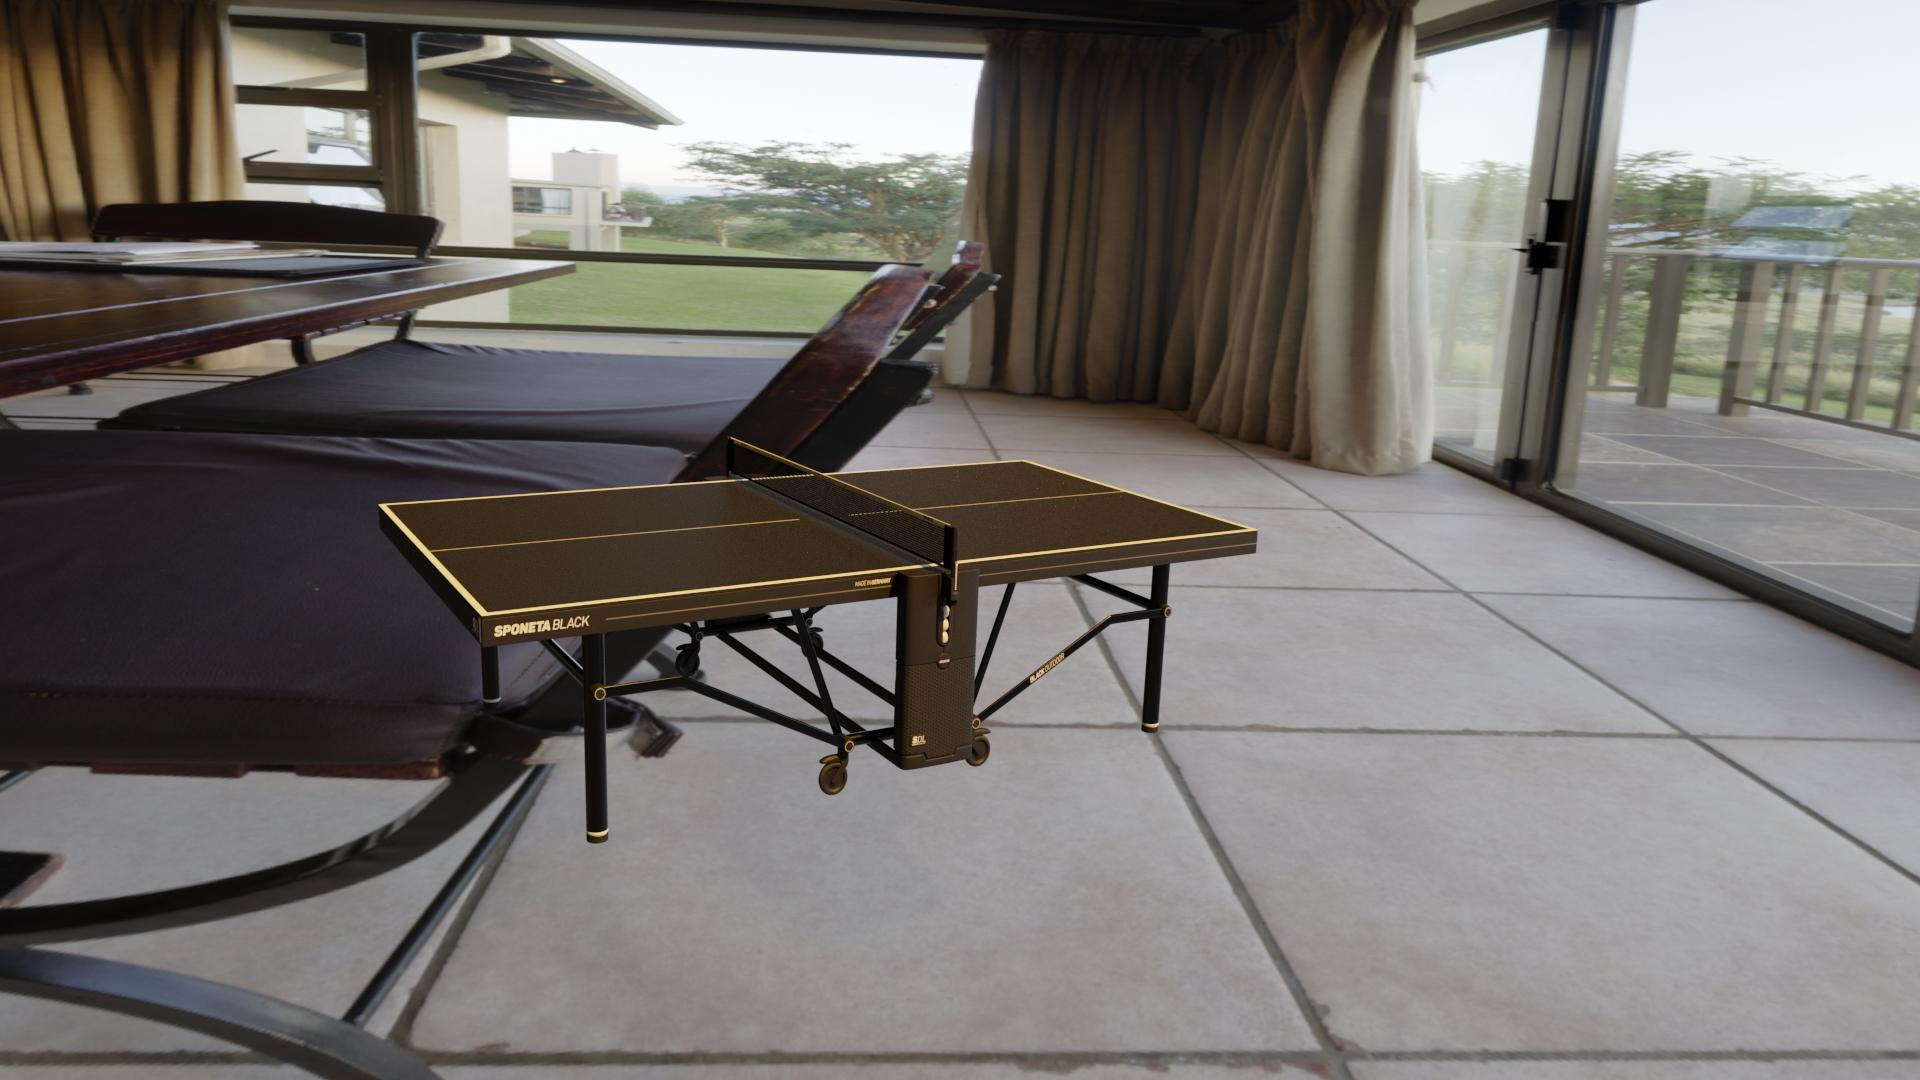table: (385, 462, 1250, 613)
